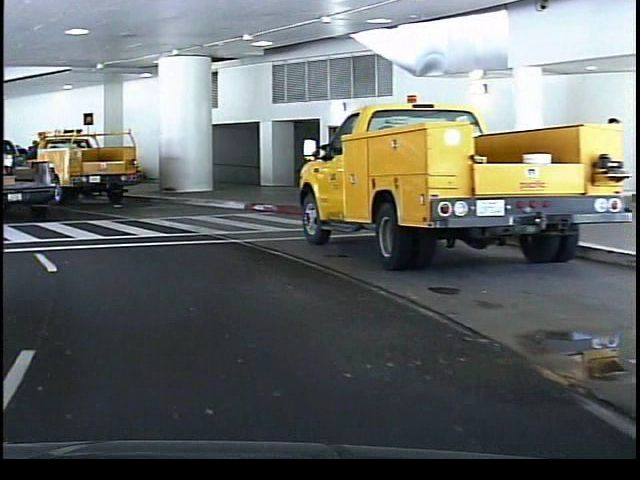person: (579, 111, 616, 218)
